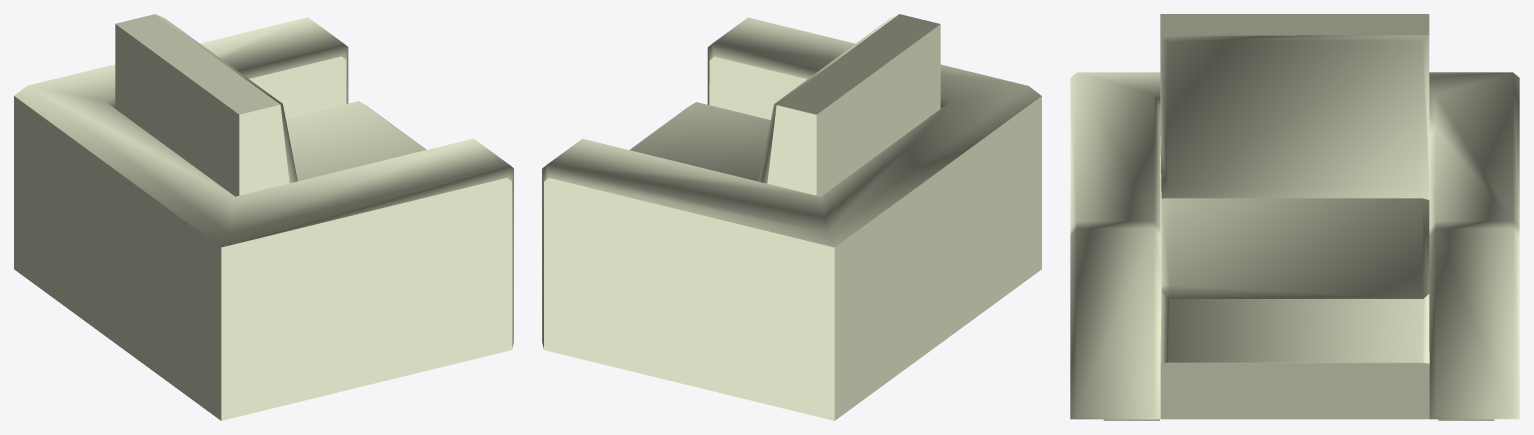
File: hotl_armchair.FBX
The picture shows the model from 3 angles, left to right: view 1: azimuth 30°, elevation 25°; view 2: azimuth 150°, elevation 25°; view 3: azimuth 270°, elevation 25°; orthographic projection. The views are drawn at different scales.
Visible parts, largest first — view 1: armchair; view 2: armchair; view 3: armchair.
Part boxes in pixels (x1,y1,x2,y2): armchair: (14,14,513,420); armchair: (542,14,1041,420); armchair: (1070,14,1519,420).
Size of the model in its own units: 1.49 by 1.25 by 1.73.
